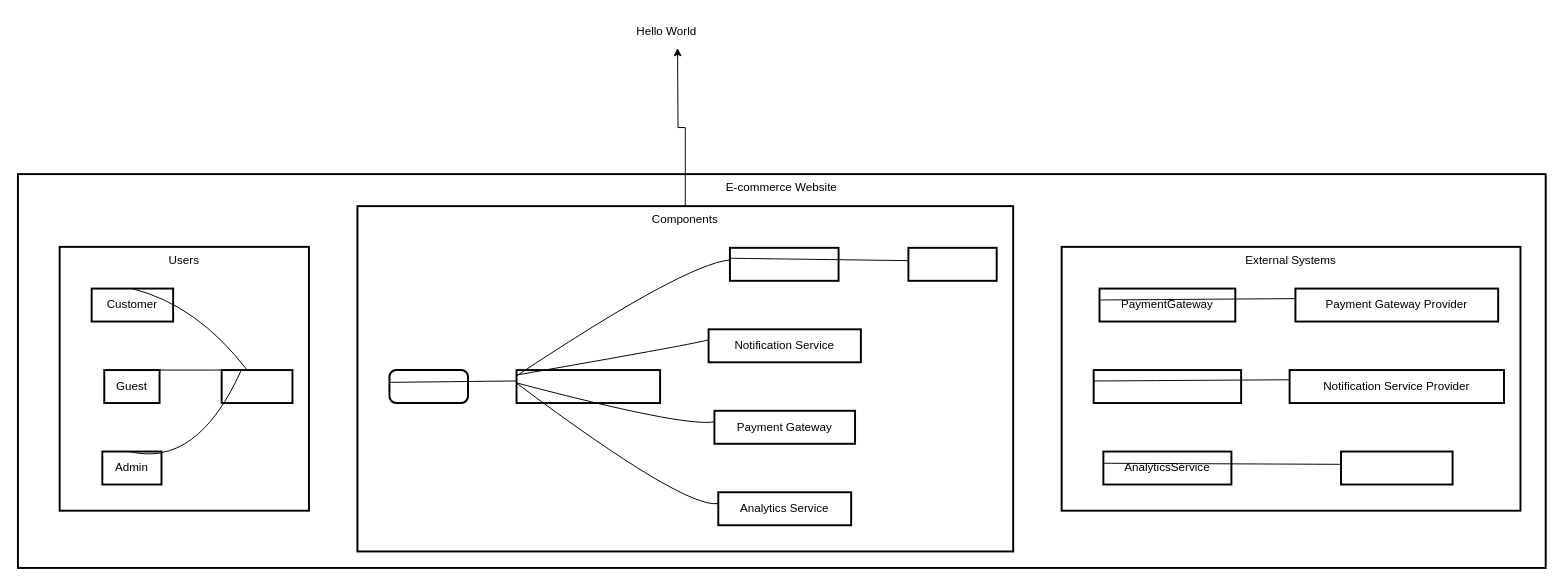
Some shapes in this 1563 by 585 pixel diagram are drawn without their labels. Each missing label, with the centre of its shape:
Analytics Tool: the point at 1396,467
Application Server: the point at 588,386
Data Store: the point at 952,263
Database: the point at 428,386
NotificationService: the point at 1167,386
Service Layer: the point at 783,263
Website: the point at 256,386
